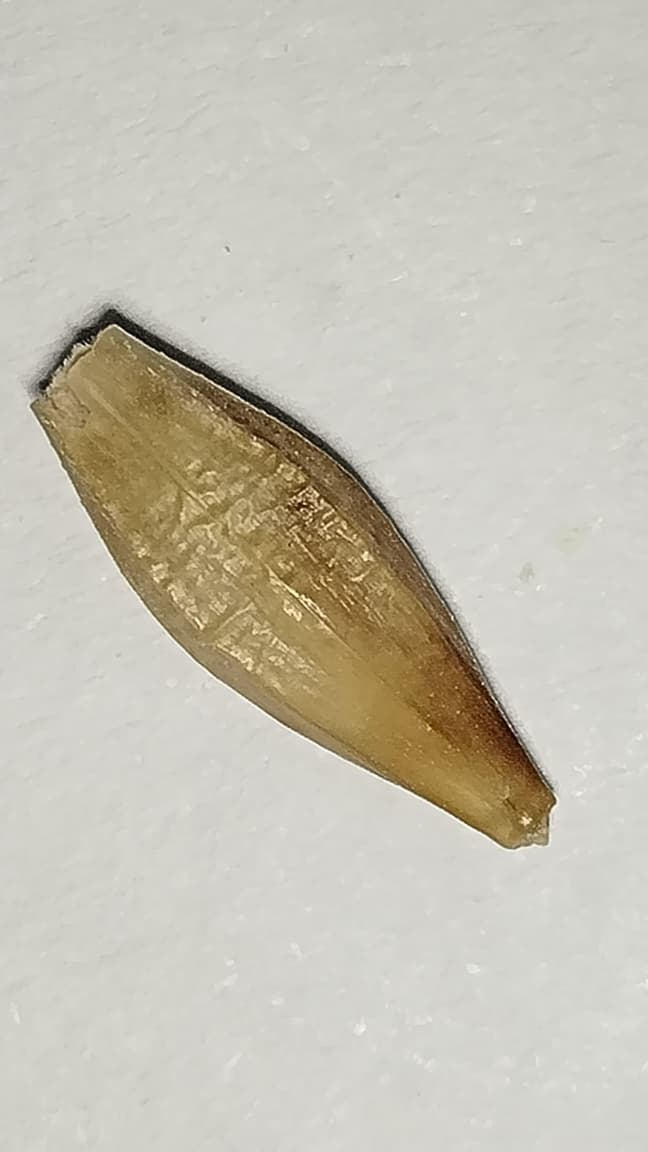healthy-70-60: (34, 323, 553, 846)
